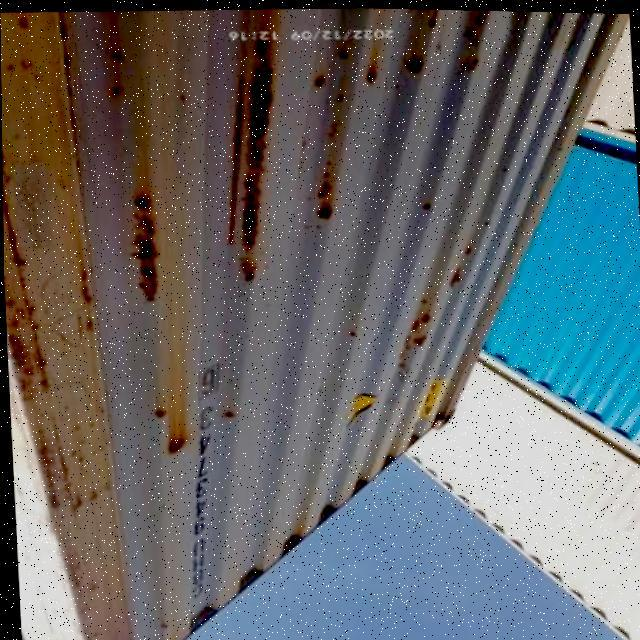rust: (214, 106, 283, 271), (134, 206, 158, 298), (394, 43, 422, 71)
